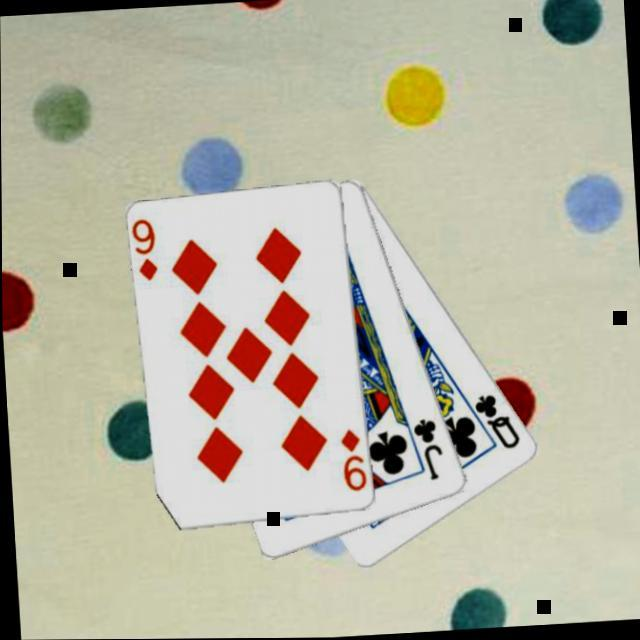9D: (339, 428, 371, 497), (132, 218, 164, 287)
JC: (411, 417, 449, 487)
QC: (472, 391, 525, 456)
